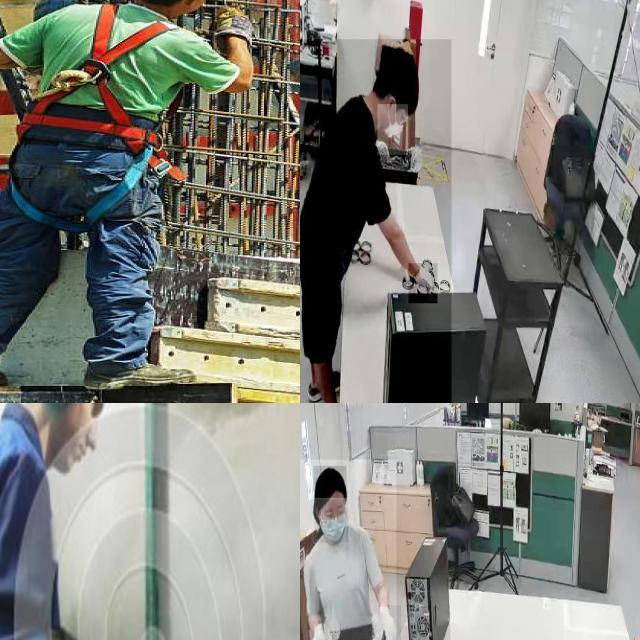Ear-protection: (27, 403, 120, 479)
Harness: (7, 3, 182, 246)
face_mask: (378, 104, 408, 155), (314, 500, 348, 542)
glasses: (322, 506, 348, 532)
hand_glove: (408, 263, 438, 304), (378, 605, 401, 640), (307, 620, 328, 640)
head_nohelmet: (374, 46, 418, 85), (313, 466, 347, 498)
person: (300, 39, 452, 403), (0, 403, 138, 640), (300, 459, 397, 640)
